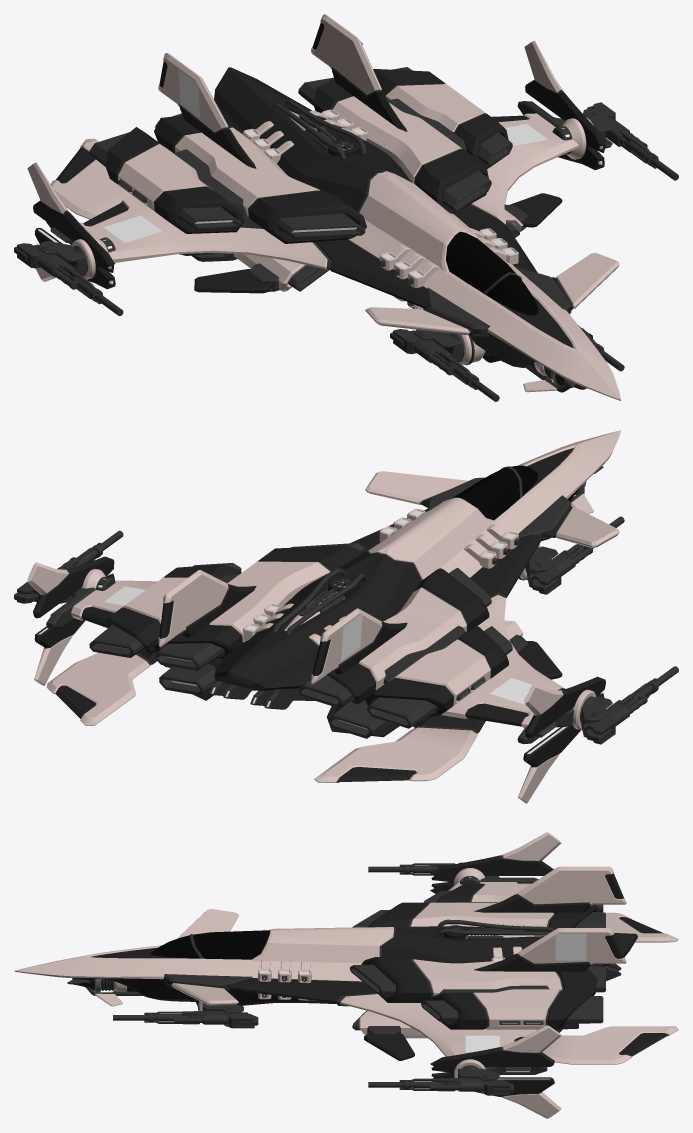
The model's file is Raven MKII Short.fbx.
3 renders of one model, top to bottom at view 1: azimuth 30°, elevation 25°; view 2: azimuth 150°, elevation 25°; view 3: azimuth 270°, elevation 25°, orthographic. The views are drawn at different scales.
Visible parts, largest first — view 1: SBSF-2 Raven, Cylinder.006, Cylinder.001, Laser Lance, Cylinder.014, Eagle Eye.001, Eagle Eye, Cylinder.003, Cylinder.008, Cylinder.015; view 2: SBSF-2 Raven, Cylinder.006, Cylinder.001, Eagle Eye.001, Cylinder.014, Eagle Eye, Cylinder.008, Reactor; view 3: SBSF-2 Raven, Cylinder.011, Cylinder.014, Laser Lance, Cylinder.015, Cylinder.012, Cylinder.008, Eagle Eye.003.
Part boxes in pixels (left/top/right/bottom): SBSF-2 Raven: left=27, top=14, right=620, bottom=400; Cylinder.006: left=14, top=243, right=101, bottom=304; Cylinder.001: left=390, top=329, right=477, bottom=389; Laser Lance: left=523, top=362, right=586, bottom=392; Cylinder.014: left=587, top=102, right=657, bottom=168; Eagle Eye.001: left=38, top=241, right=87, bottom=276; Eagle Eye: left=414, top=329, right=464, bottom=361; Cylinder.003: left=430, top=355, right=499, bottom=401; Cylinder.008: left=54, top=269, right=123, bottom=315; Cylinder.015: left=624, top=130, right=678, bottom=180; SBSF-2 Raven: left=27, top=430, right=620, bottom=803; Cylinder.006: left=584, top=678, right=657, bottom=744; Cylinder.001: left=530, top=544, right=593, bottom=594; Eagle Eye.001: left=580, top=696, right=612, bottom=737; Cylinder.014: left=14, top=542, right=101, bottom=603; Eagle Eye: left=525, top=546, right=558, bottom=587; Cylinder.008: left=626, top=666, right=678, bottom=713; Reactor: left=284, top=576, right=358, bottom=630; SBSF-2 Raven: left=14, top=832, right=678, bottom=1118; Cylinder.011: left=144, top=1006, right=258, bottom=1028; Cylinder.014: left=399, top=1073, right=513, bottom=1095; Laser Lance: left=67, top=978, right=142, bottom=1006; Cylinder.015: left=368, top=1081, right=458, bottom=1090; Cylinder.012: left=113, top=1014, right=202, bottom=1023; Cylinder.008: left=368, top=865, right=439, bottom=874; Eagle Eye.003: left=458, top=1065, right=499, bottom=1093.
Size of the model in its own units: 1882 by 493 by 2327.
